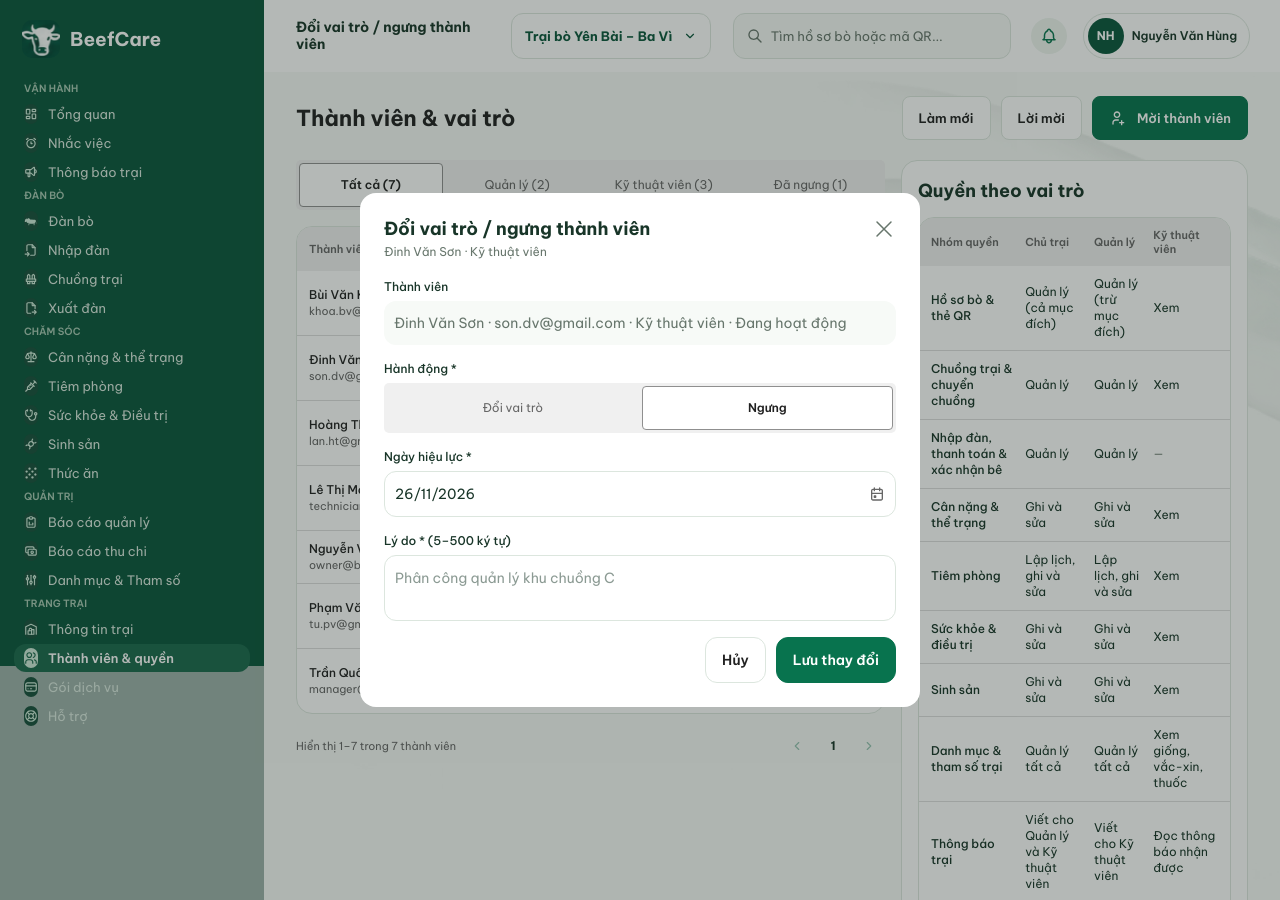
it: Members and Roles › deactivates a member through the ?m=doi-vai-tro dialog after a confirmation step
The width and height of the screenshot is (1280, 900).
Step 1. Click the button "Lưu thay đổi" → (836, 660), box 776,637 -> 896,683
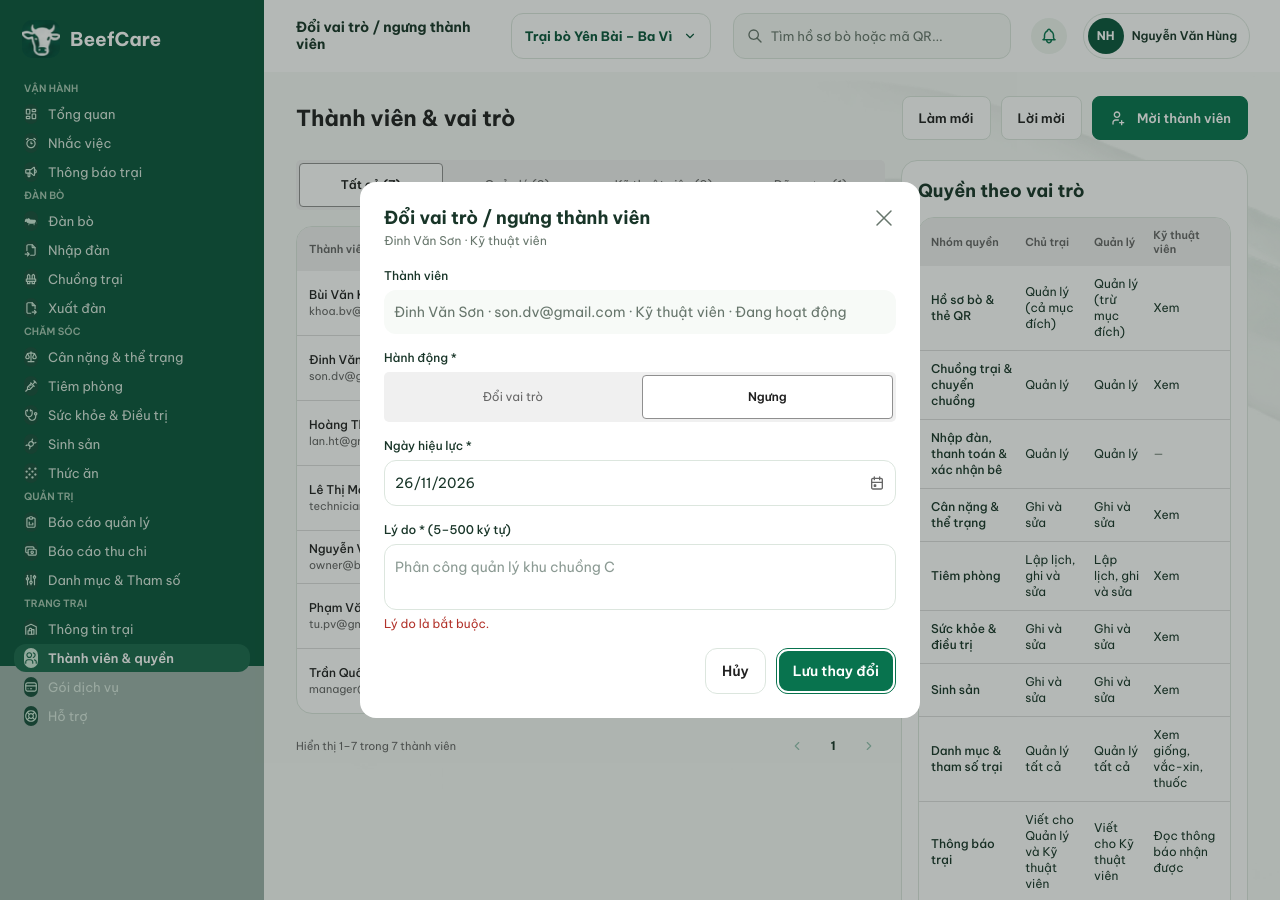
Check: the text "Lý do là bắt buộc." is shown, box 384,616 -> 489,631
Step 2. Type "Nghỉ việc" into the text box labelled "Lý do * (5–500 ký tự)" → (640, 577), box 384,544 -> 896,610
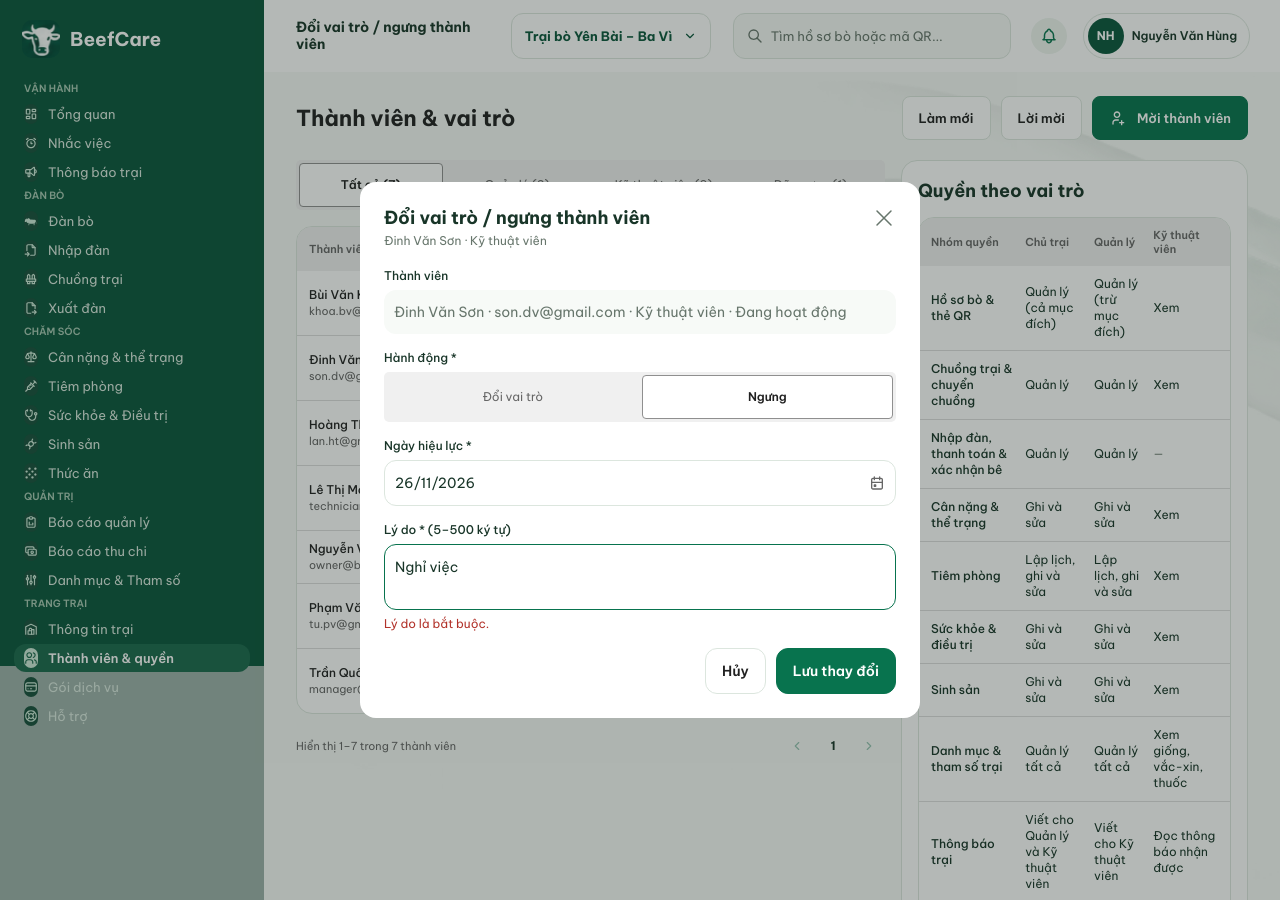
Step 3. Click the button "Lưu thay đổi" → (836, 671), box 776,648 -> 896,694
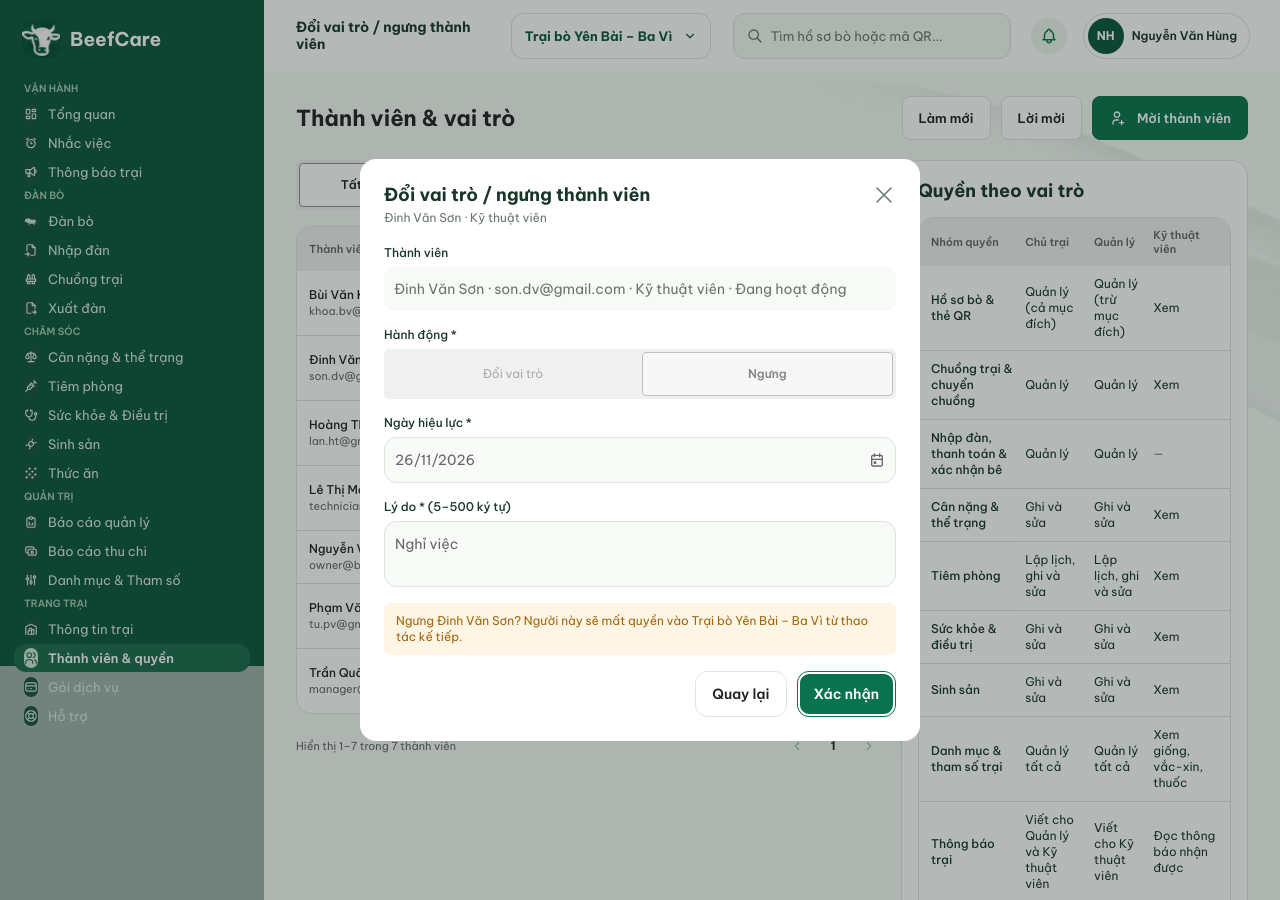
Check: the text "Ngưng Đinh Văn Sơn? Người này sẽ mất quyền vào Trại bò Yên Bài – Ba Vì từ thao tác kế tiếp." is shown, box 396,613 -> 868,644
Step 4. Click the button "Xác nhận" → (846, 694), box 797,671 -> 896,717
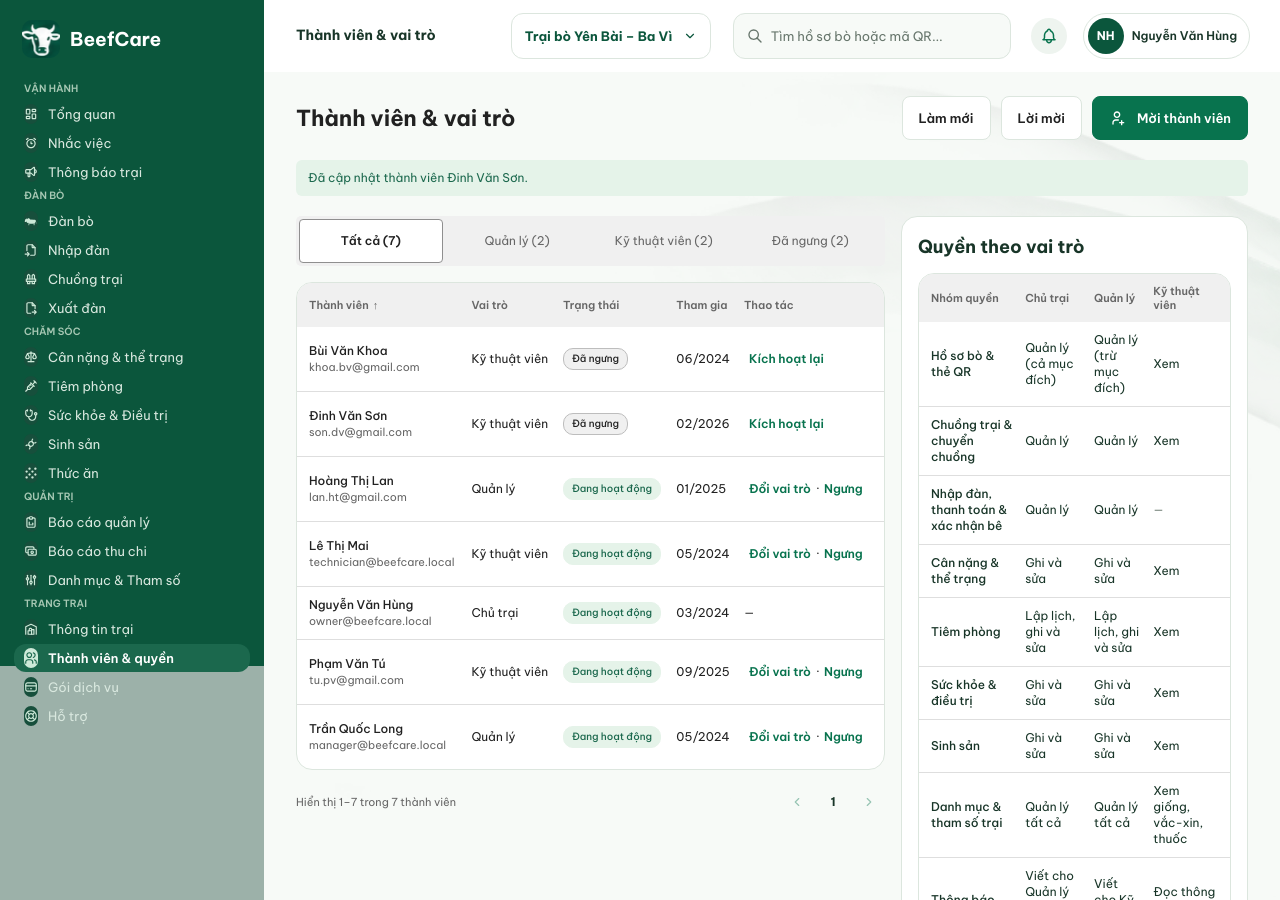
Check: the text "Đã cập nhật thành viên Đinh Văn Sơn." is shown, box 296,160 -> 1248,196
Check: the dialog is gone
Check: the button "Đã ngưng (2)" is shown, box 738,219 -> 882,263
